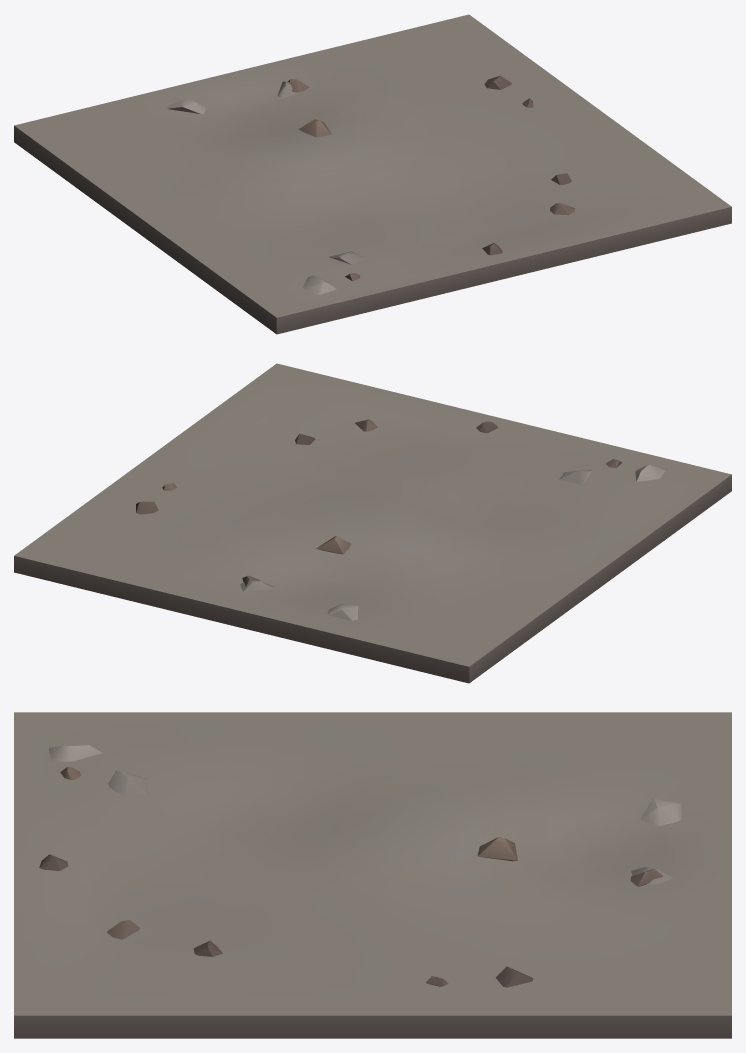
The model's file is floor_cave_large_D.glb.
3 renders of one model, top to bottom at view 1: azimuth 30°, elevation 25°; view 2: azimuth 150°, elevation 25°; view 3: azimuth 270°, elevation 25°, orthographic. The views are drawn at different scales.
Visible parts, largest first — view 1: Item; view 2: Item; view 3: Item.
Boxes of the visible parts, <box> form: Item: <box>14,14,731,334</box>; Item: <box>14,363,731,683</box>; Item: <box>14,712,731,1038</box>.
Size of the model in its own units: 4 by 0.2599 by 4.
Materials: 1 (1 with a texture image).
